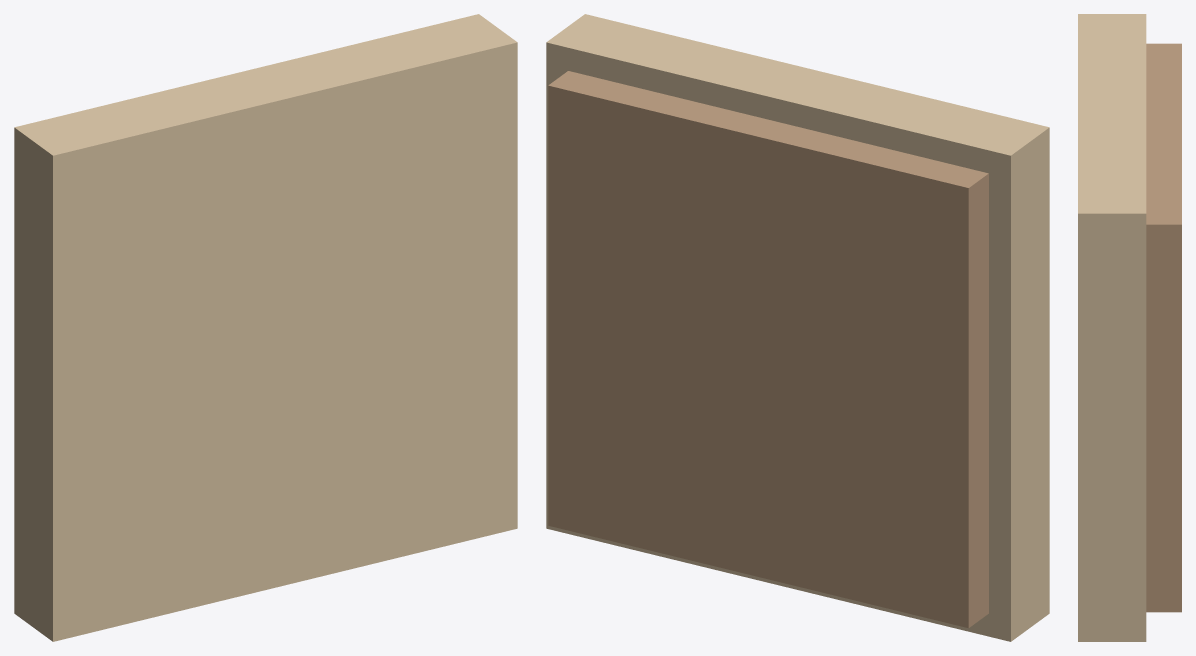
The model's file is plot_farm_dry_no_outline.glb.
3 renders of one model, left to right at view 1: azimuth 30°, elevation 25°; view 2: azimuth 150°, elevation 25°; view 3: azimuth 270°, elevation 25°, orthographic. The views are drawn at different scales.
Visible parts, largest first — view 1: plot_farm_dry_base_no_outline; view 2: plot_farm_dry_solo_no_outline, plot_farm_dry_base_no_outline; view 3: plot_farm_dry_base_no_outline, plot_farm_dry_solo_no_outline.
Boxes of the visible parts, box(x1,y1,x2,y2) form: plot_farm_dry_base_no_outline: box(14, 14, 517, 641); plot_farm_dry_solo_no_outline: box(548, 71, 988, 628); plot_farm_dry_base_no_outline: box(546, 14, 1049, 641); plot_farm_dry_base_no_outline: box(1078, 14, 1146, 641); plot_farm_dry_solo_no_outline: box(1146, 43, 1181, 612).
Size of the model in its own units: 1.9 by 1.9 by 0.4175.
